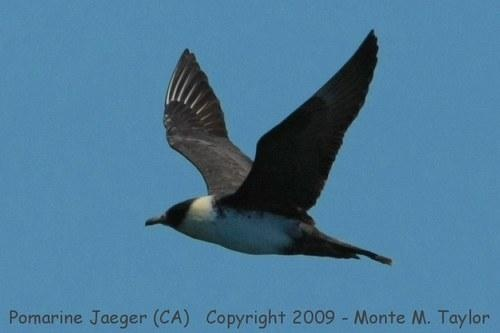bird: (142, 28, 395, 269)
